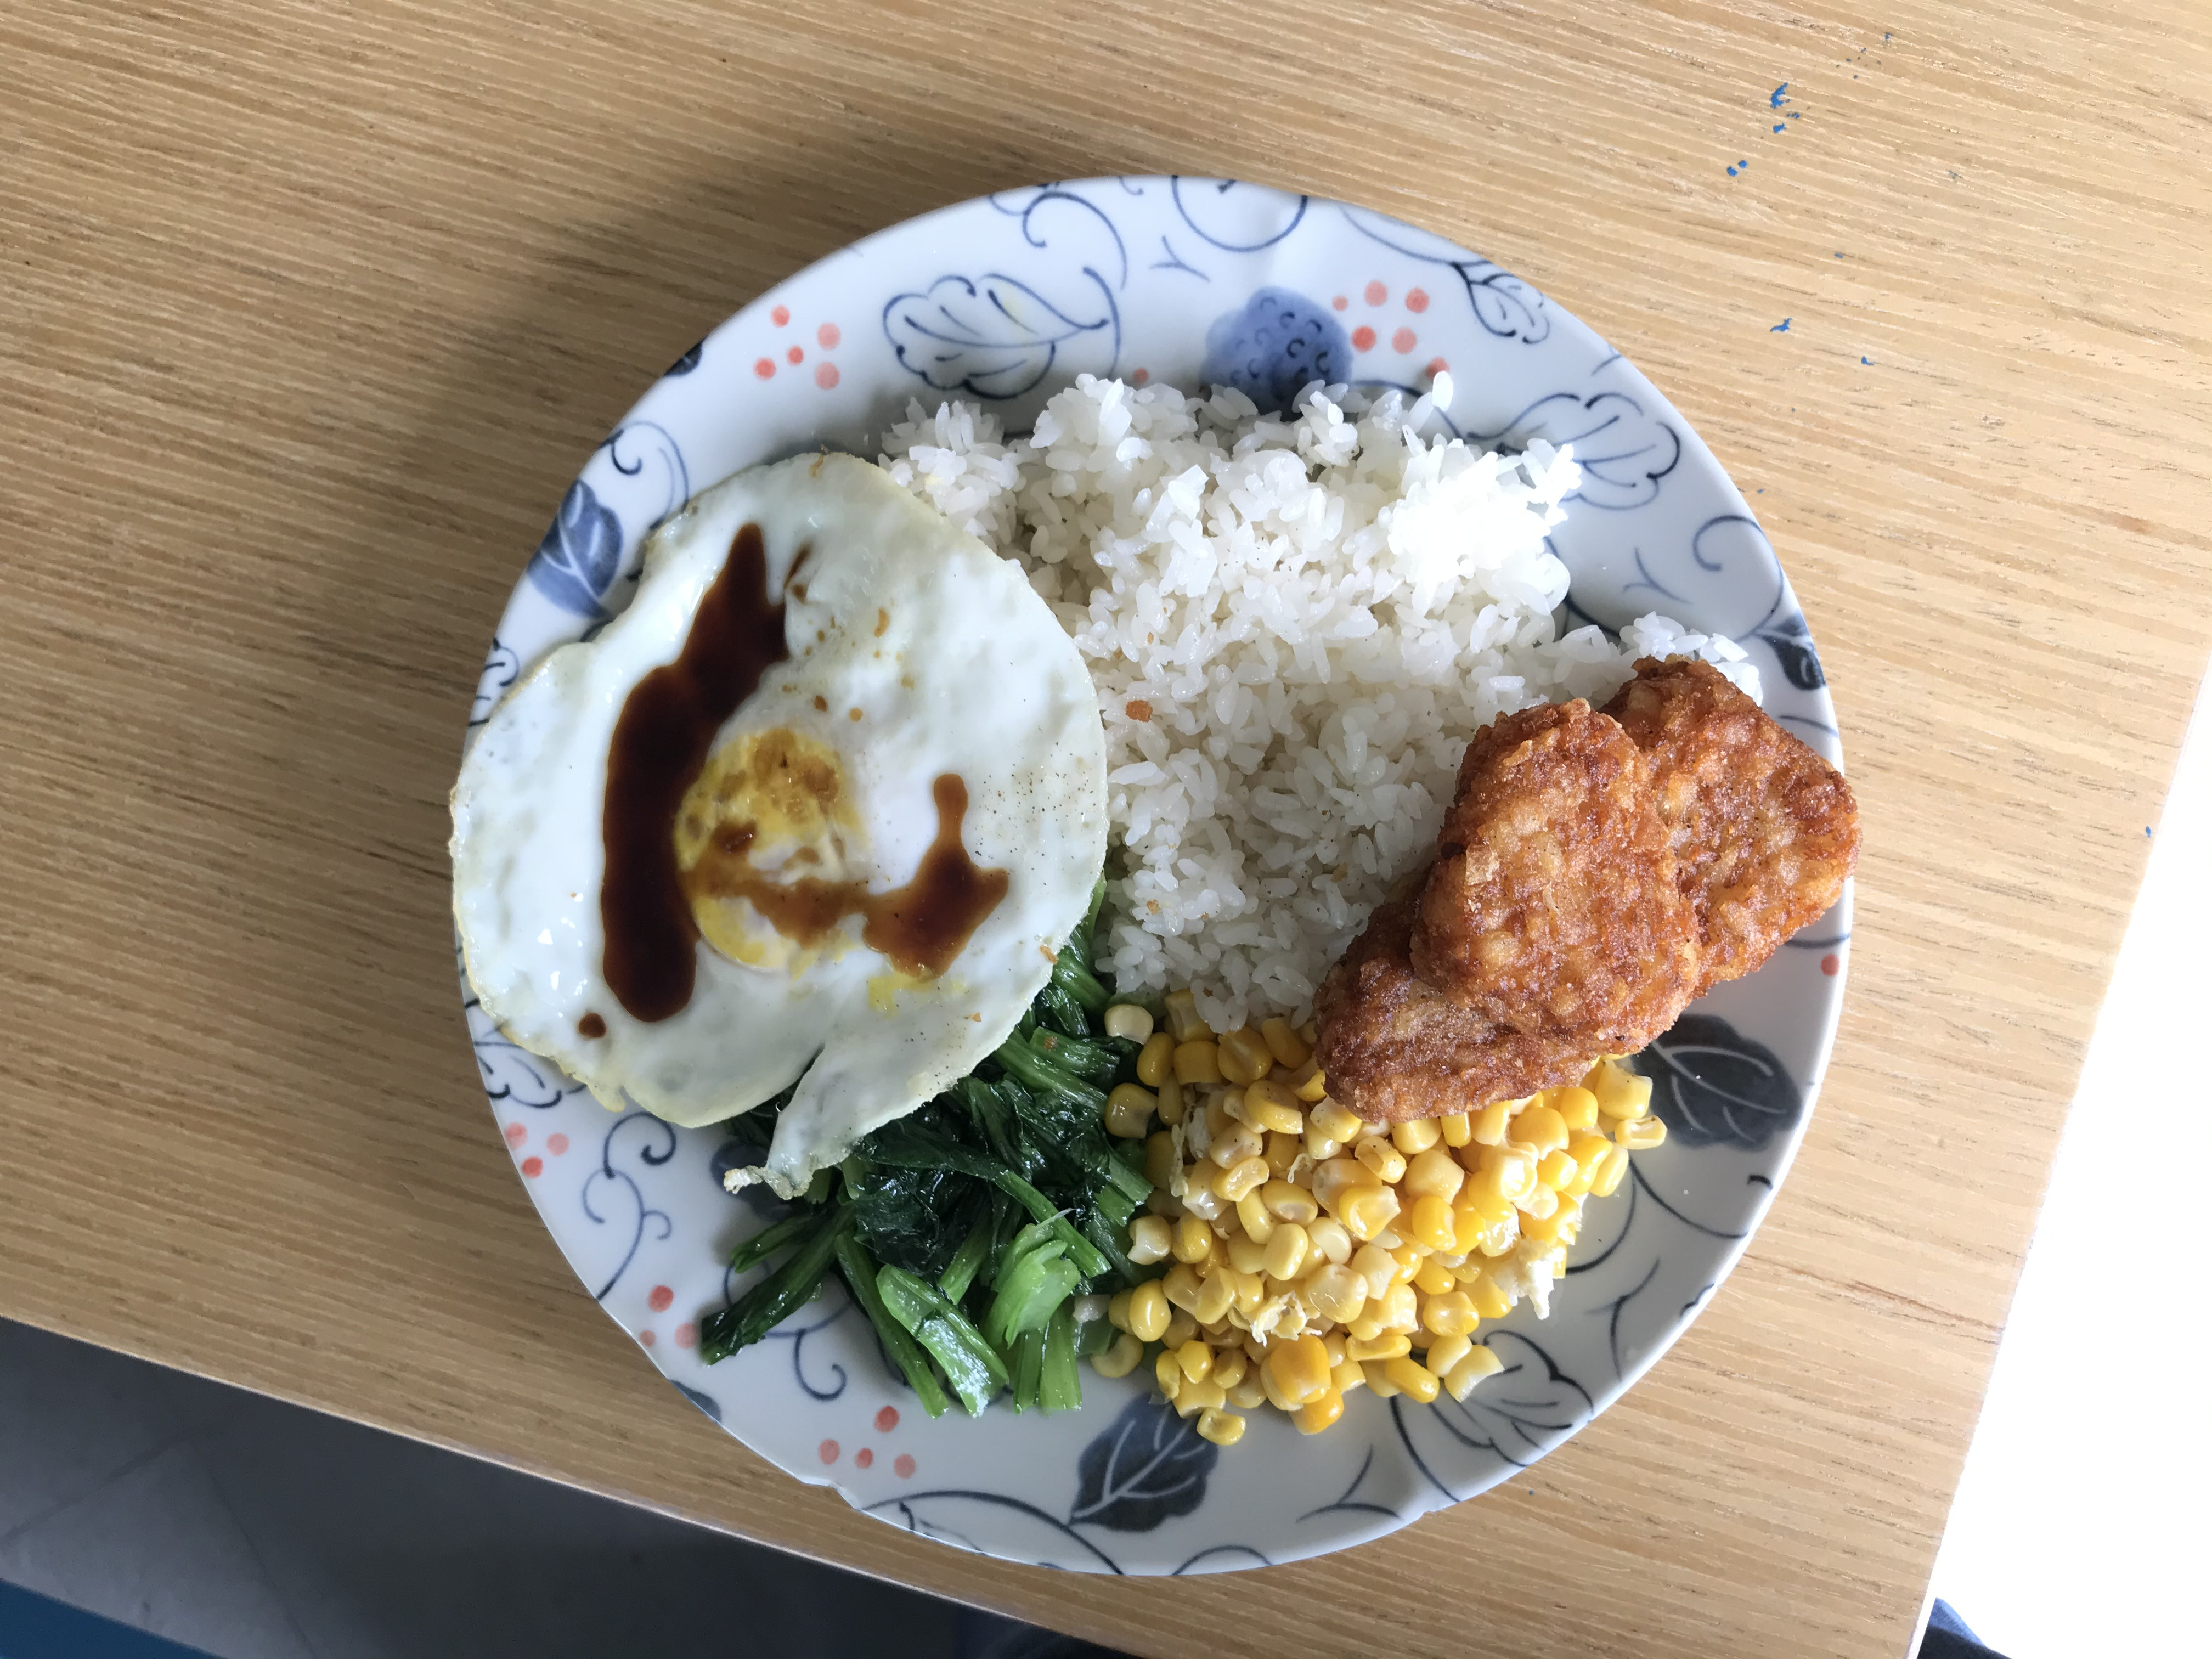fried_eggs: (449, 450, 1111, 1119)
rice: (1109, 364, 1484, 924)
triangle_hash_brown: (1320, 655, 1858, 1121)
water_spinach: (700, 920, 1143, 1417)
